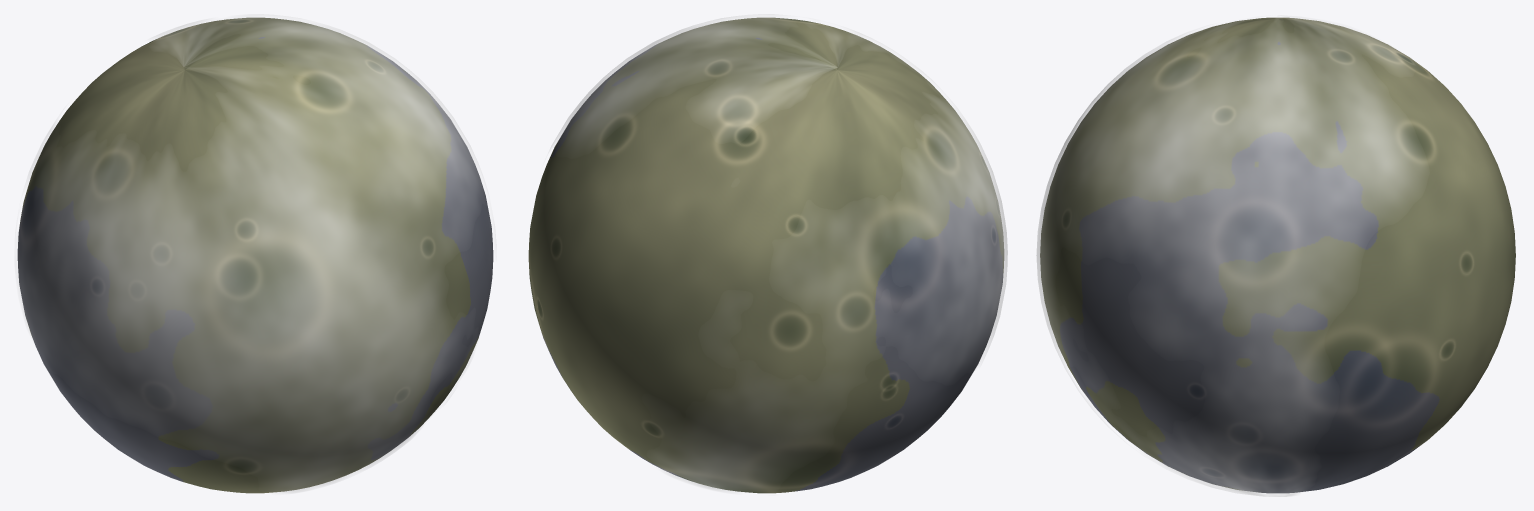
The model's file is eden-t1.glb.
3 views of the same model, side by side, from view 1: azimuth 30°, elevation 25°; view 2: azimuth 150°, elevation 25°; view 3: azimuth 270°, elevation 25° (orthographic).
Parts seen in each view (by area): view 1: Surface, Clouds; view 2: Surface, Clouds; view 3: Surface, Clouds.
Boxes of the visible parts, box(x1,y1,x2,y2) form: Surface: box(17, 17, 493, 493); Clouds: box(20, 14, 495, 493); Surface: box(528, 17, 1004, 493); Clouds: box(551, 14, 1007, 492); Surface: box(1040, 17, 1515, 493); Clouds: box(1036, 15, 1420, 496).
Size of the model in its own units: 2.03 by 2.03 by 2.03.
2 materials, 2 textured.
